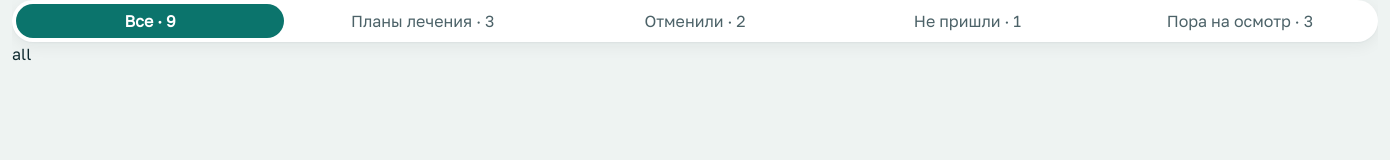
Test: компьютер — таблетки: нажатая отмечена aria-pressed, выбор меняет значение
The width and height of the screenshot is (1390, 160).
Click the button "Отменили · 2": (695, 21) [561, 4, 829, 38]
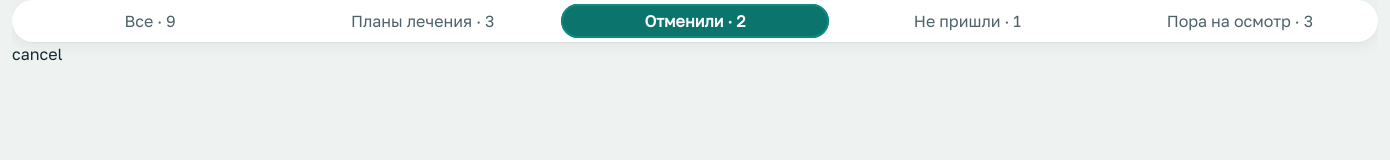
Result: the text "cancel" is shown at [12, 44, 63, 64]
